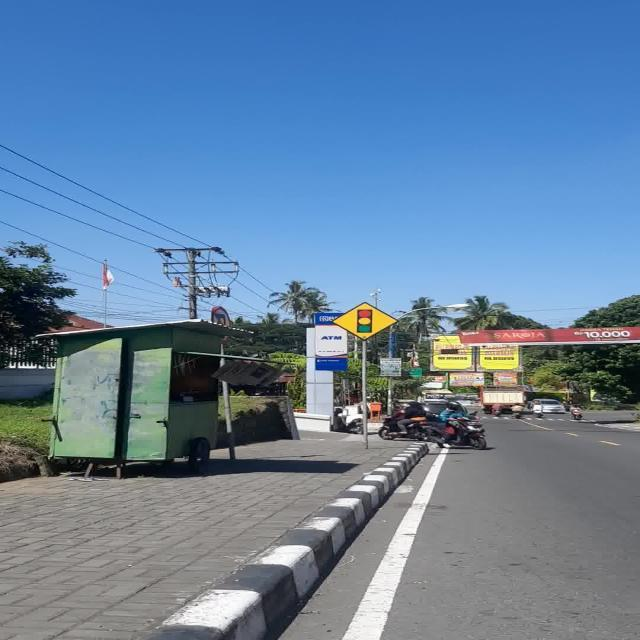Lampu Lalu Lintas: (332, 302, 399, 341)
